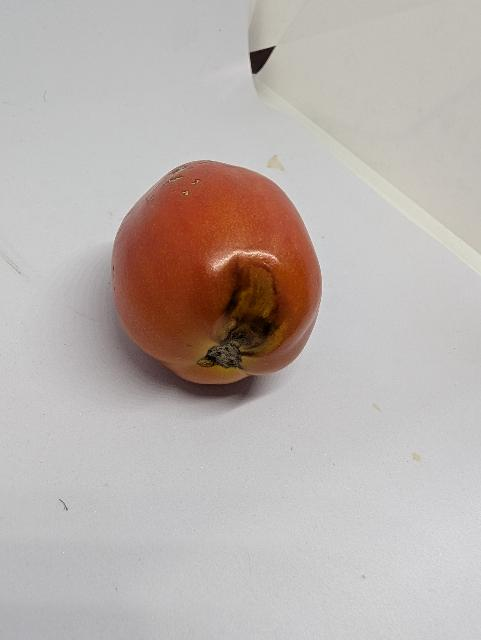defect: (107, 157, 329, 392)
